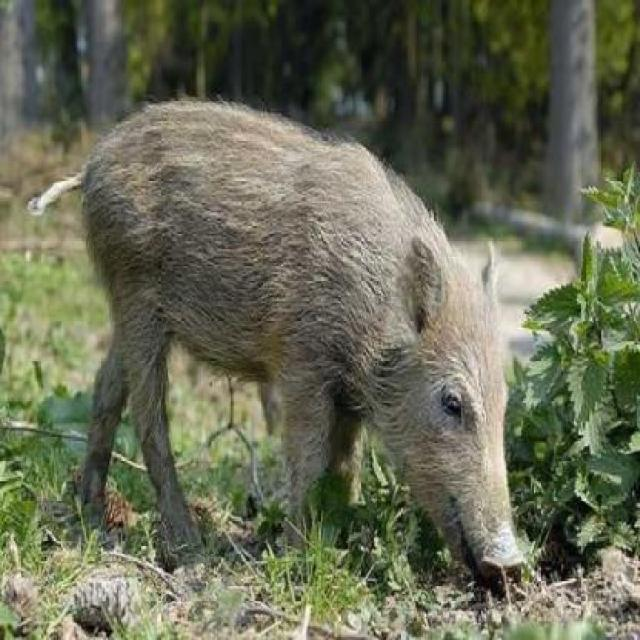pig: (29, 79, 550, 633)
